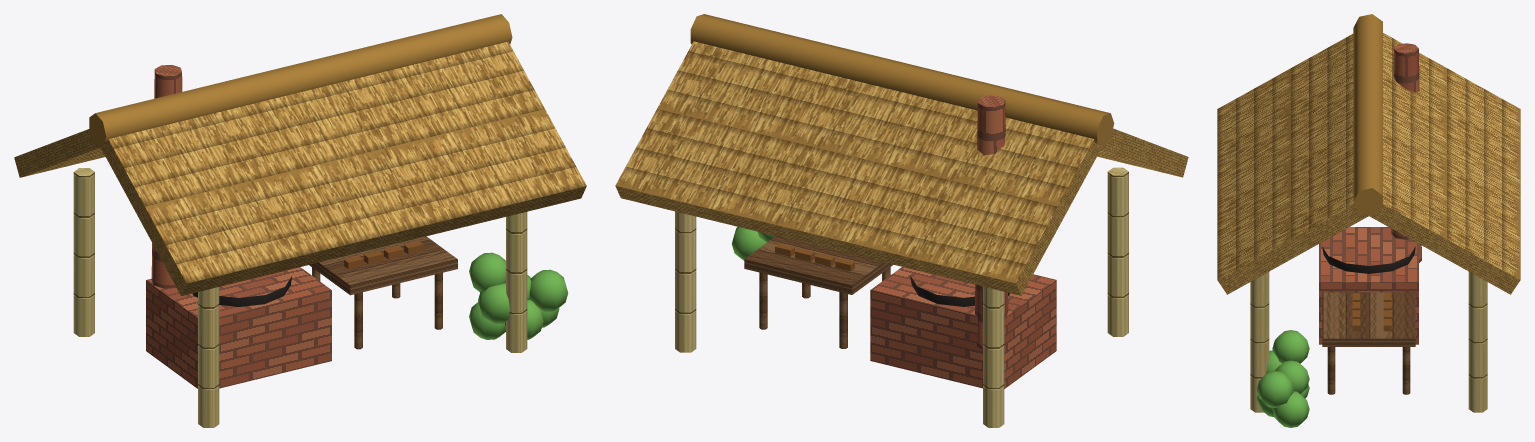
File: lo_keo.glb
3 views of the same model, side by side, from view 1: azimuth 30°, elevation 25°; view 2: azimuth 150°, elevation 25°; view 3: azimuth 270°, elevation 25° (orthographic). The views are drawn at different scales.
Visible parts, largest first — view 1: lo_keo; view 2: lo_keo; view 3: lo_keo.
Boxes of the visible parts, x1=… form: lo_keo: x1=14, y1=14, x2=586, y2=427; lo_keo: x1=615, y1=14, x2=1188, y2=427; lo_keo: x1=1217, y1=14, x2=1520, y2=427.
Bounding box in the file's own units: 1.35 × 0.875 × 0.9714.
Materials: 8 (4 with a texture image).
